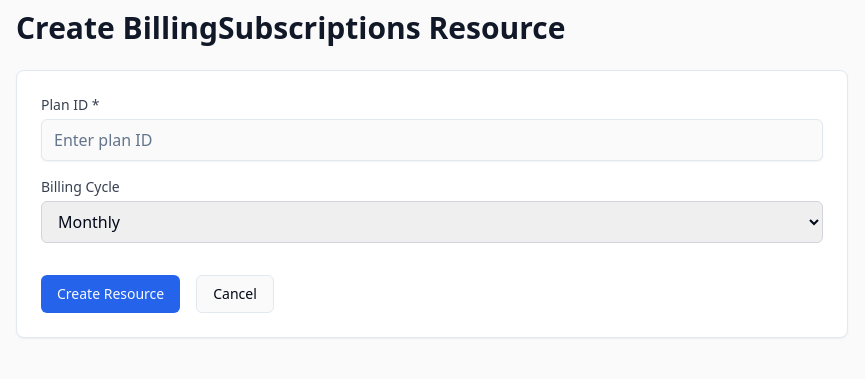
Test: CreateBillingSubscriptionsResourcePage › validates that a plan is required before submitting
Step 1. Click the button "Create Resource" → (111, 294), box [41,275,180,313]
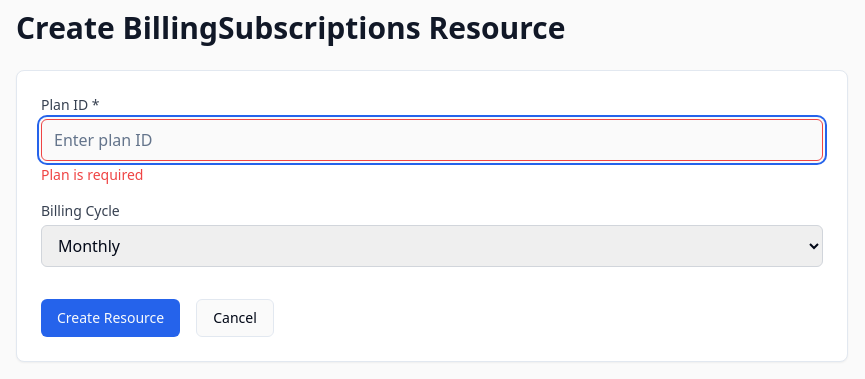
Check: the text "Plan is required" is shown, box [41,165,144,184]
